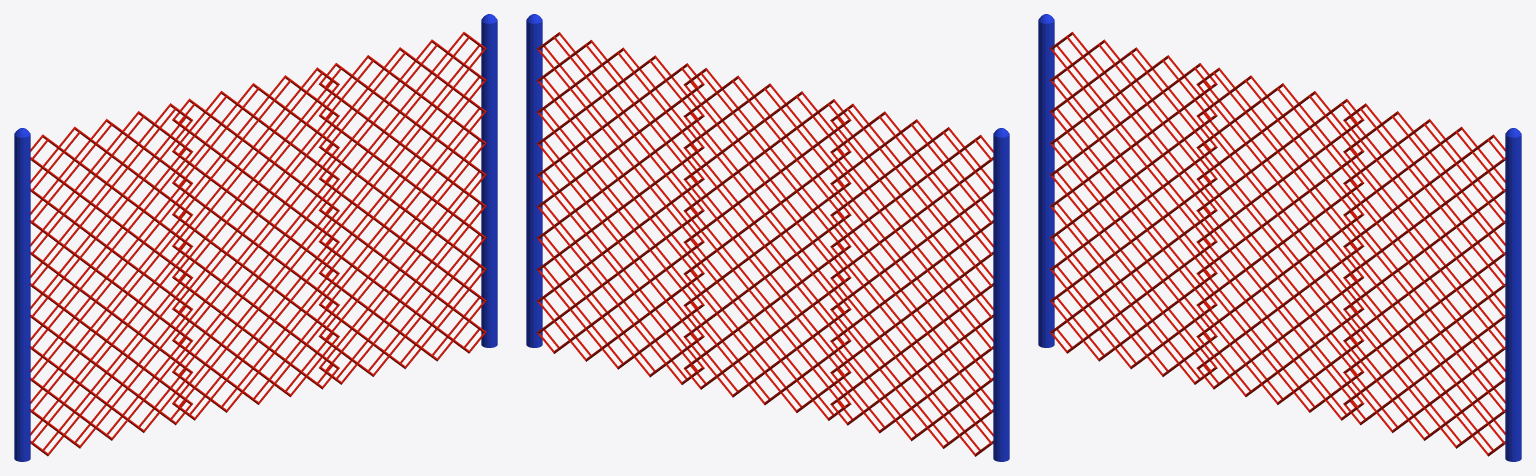
The model's file is PatioProp_Cerca.fbx.
3 renders of one model, left to right at view 1: azimuth 30°, elevation 25°; view 2: azimuth 150°, elevation 25°; view 3: azimuth 330°, elevation 25°, orthographic.
Visible parts, largest first — view 1: Grid, Cylinder; view 2: Grid, Cylinder; view 3: Grid, Cylinder.
Part boxes in pixels (x1,y1,x2,y2): Grid: (30, 32, 486, 456); Cylinder: (14, 14, 497, 461); Grid: (537, 32, 993, 456); Cylinder: (526, 14, 1009, 461); Grid: (1049, 32, 1505, 456); Cylinder: (1038, 14, 1521, 461).
Size of the model in its own units: 632 by 417 by 18.78.
